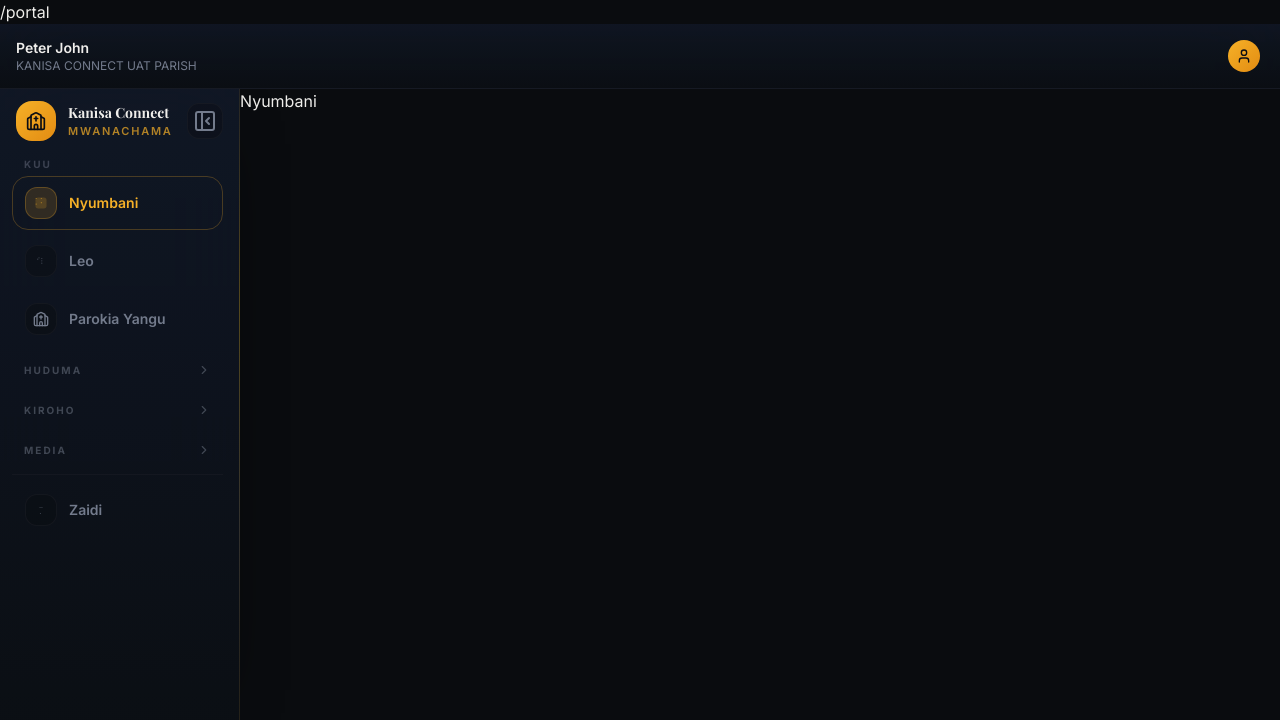
it: multi-church Slice 3 member church switcher › renders both church rows when the secondary church is active and keeps the primary church selectable
Click the button named "Fungua menyu ya akaunti" at (1244, 56), box [1224, 36, 1264, 76]
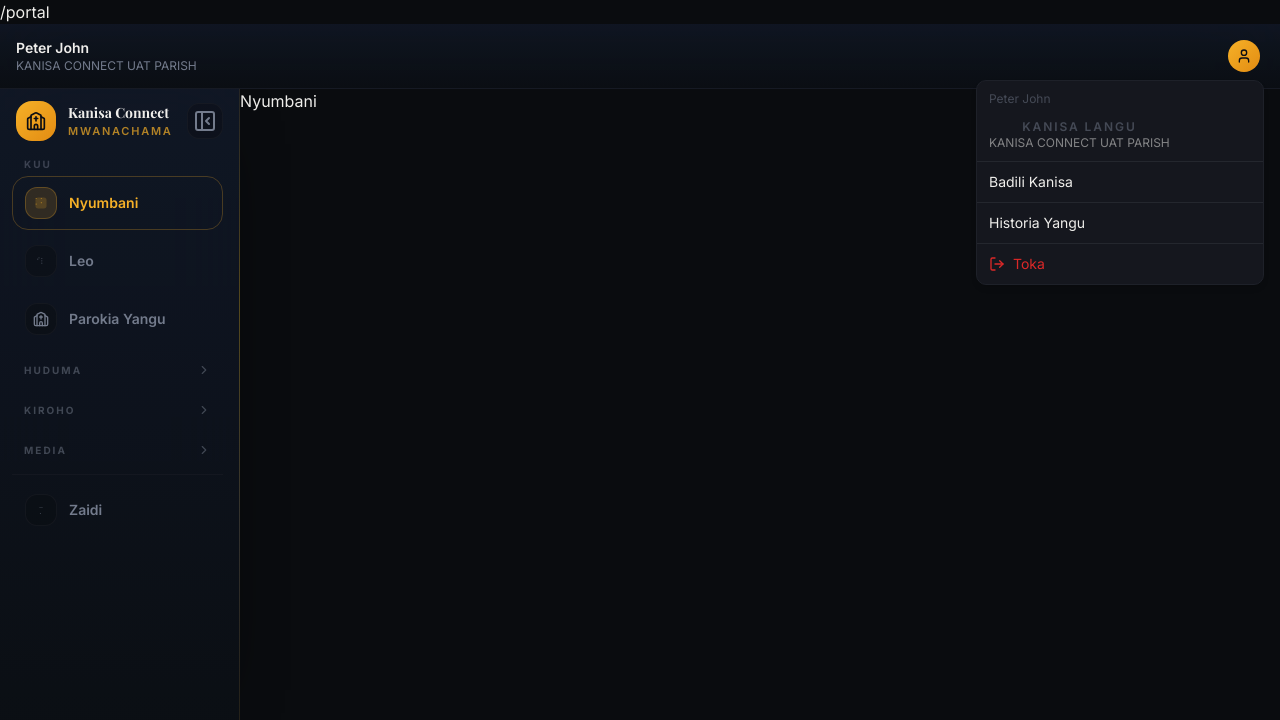
Click the button "Badili Kanisa" at (1031, 182), box [981, 166, 1259, 198]
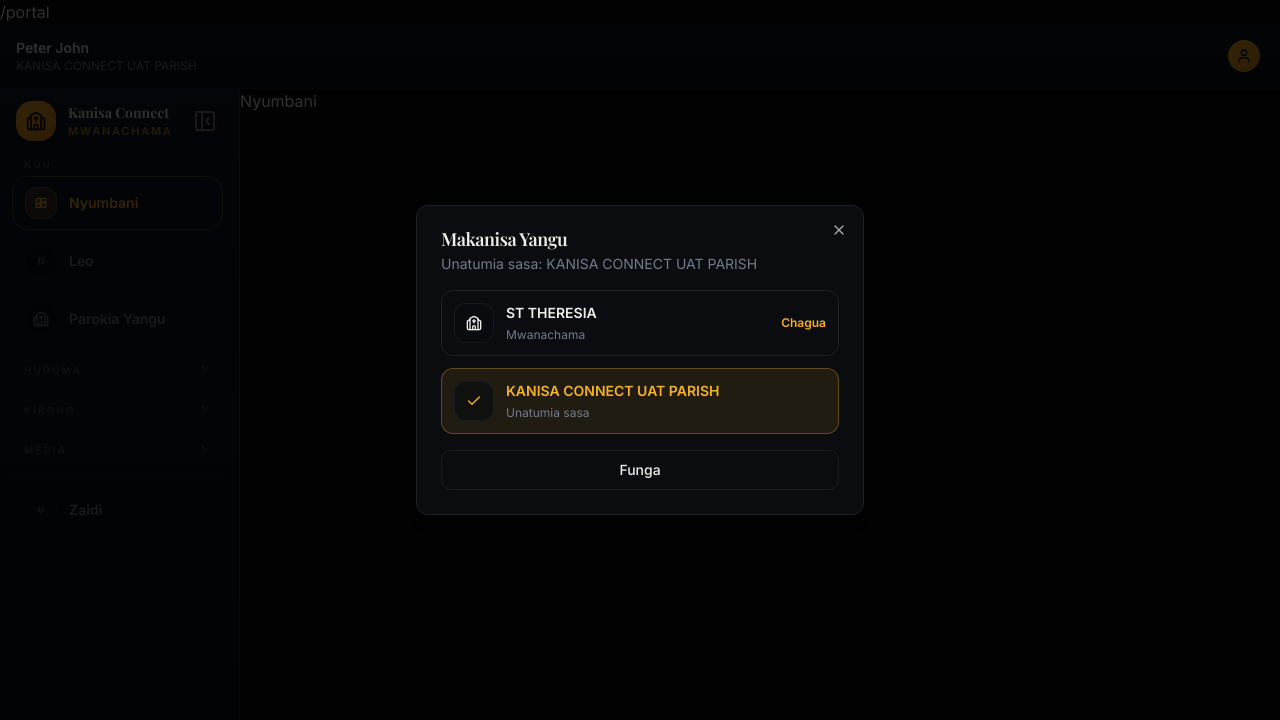
Now the button "KANISA CONNECT UAT PARISH Unatumia sasa" is disabled, box [441, 368, 839, 434]
Now the button "ST THERESIA Mwanachama Chagua" is enabled, box [441, 290, 839, 356]
